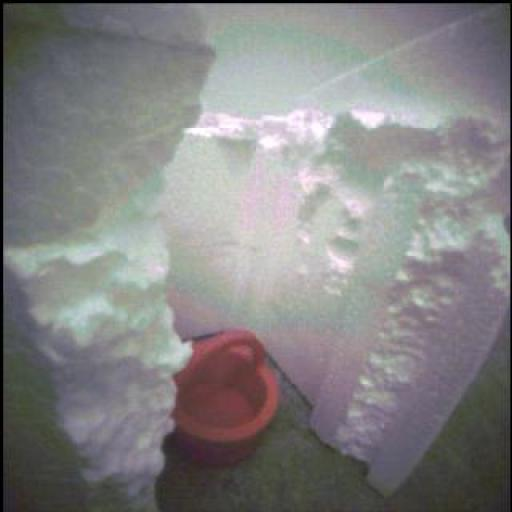Bucket: (174, 331, 279, 467)
